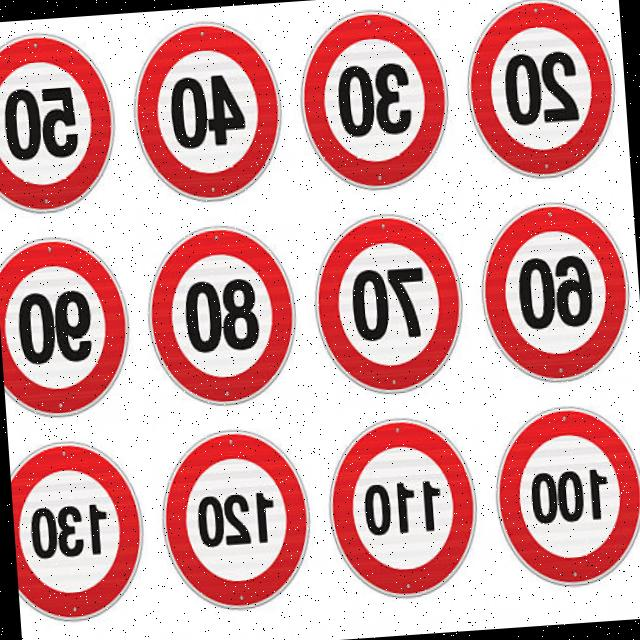speed_limit_100: (486, 395, 640, 593)
speed_limit_120: (150, 415, 323, 622)
speed_limit_30: (291, 0, 460, 197)
speed_limit_50: (0, 19, 133, 216)
speed_limit_60: (471, 192, 640, 391)
speed_limit_70: (301, 205, 474, 404)
speed_limit_80: (137, 220, 303, 418)
